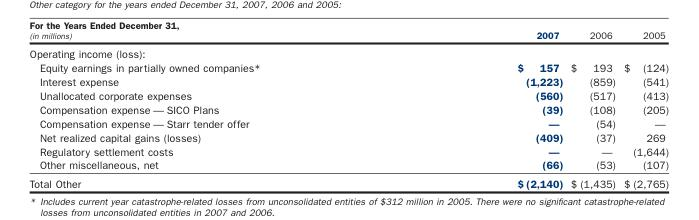table: (28, 28, 668, 188)
table column: (28, 28, 388, 188), (388, 28, 566, 188), (566, 28, 618, 188), (618, 28, 668, 188)
table column header: (28, 28, 668, 43)
table projected row header: (28, 43, 668, 60)
table row: (28, 43, 668, 60), (28, 157, 668, 173), (28, 28, 668, 43), (28, 173, 668, 188), (28, 60, 668, 74), (28, 74, 668, 88), (28, 101, 668, 115), (28, 115, 668, 129), (28, 129, 668, 143), (28, 143, 668, 157), (28, 88, 668, 101)
